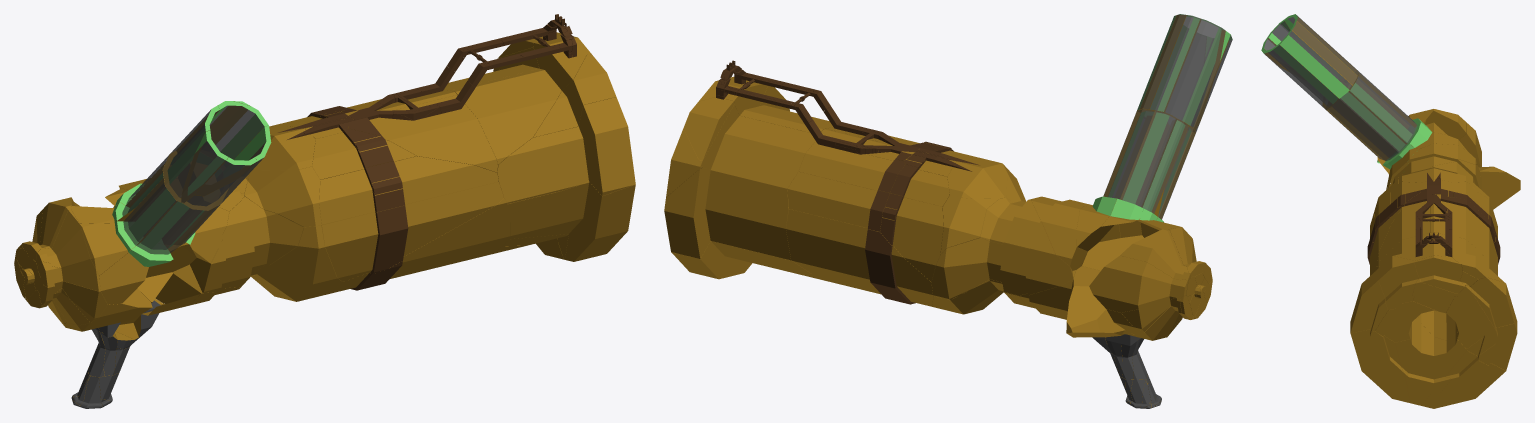
The model's file is BlasterCrumble.fbx.
The picture shows the model from 3 angles, left to right: view 1: azimuth 30°, elevation 25°; view 2: azimuth 150°, elevation 25°; view 3: azimuth 270°, elevation 25°; orthographic projection. The views are drawn at different scales.
Visible parts, largest first — view 1: Gun_cell.090, Gun_cell.037, Gun_cell.058, Gun_cell.013, Gun_cell.066, Gun_cell.032, Gun_cell.106, Gun_cell.040, Gun_cell.002, Gun_cell.009, Gun_cell.072, Gun_cell.065 (+24 smaller); view 2: Gun_cell.067, Gun_cell.051, Gun_cell.044, Gun_cell.083, Gun_cell.068, Gun_cell.028, Gun_cell.071, Gun_cell.042, Gun_cell.095, Gun_cell.103, Gun_cell.045, Gun_cell.033 (+23 smaller); view 3: Gun_cell.023, Gun_cell.033, Gun_cell.066, Gun_cell.035, Gun_cell.100, Gun_cell.091, Gun_cell.024, Gun_cell.088, Gun_cell.090, Gun_cell.001, Gun_cell.076, Gun_cell.106 (+26 smaller).
Part boxes in pixels (x1,y1,x2,y2): Gun_cell.090: (497, 97, 635, 203); Gun_cell.037: (322, 182, 503, 281); Gun_cell.058: (451, 38, 586, 165); Gun_cell.013: (319, 156, 498, 224); Gun_cell.066: (509, 181, 635, 261); Gun_cell.032: (190, 196, 303, 292); Gun_cell.106: (348, 95, 497, 172); Gun_cell.040: (325, 198, 510, 294); Gun_cell.002: (251, 225, 342, 301); Gun_cell.009: (80, 178, 177, 278); Gun_cell.072: (244, 166, 321, 226); Gun_cell.065: (312, 128, 416, 179); Gun_cell.067: (664, 168, 790, 260); Gun_cell.051: (786, 209, 933, 305); Gun_cell.044: (931, 238, 1073, 300); Gun_cell.083: (699, 104, 815, 188); Gun_cell.068: (787, 171, 889, 231); Gun_cell.028: (1089, 255, 1188, 312); Gun_cell.071: (1164, 18, 1225, 132); Gun_cell.042: (880, 193, 943, 281); Gun_cell.095: (798, 142, 905, 192); Gun_cell.103: (1110, 110, 1176, 219); Gun_cell.045: (980, 197, 1055, 254); Gun_cell.033: (671, 241, 818, 279); Gun_cell.023: (1395, 317, 1466, 405); Gun_cell.033: (1418, 311, 1505, 408); Gun_cell.066: (1350, 329, 1410, 403); Gun_cell.035: (1328, 91, 1413, 169); Gun_cell.100: (1348, 73, 1431, 147); Gun_cell.091: (1279, 15, 1358, 98); Gun_cell.024: (1446, 285, 1497, 354); Gun_cell.088: (1378, 256, 1418, 309); Gun_cell.090: (1350, 266, 1387, 333); Gun_cell.001: (1263, 43, 1338, 109); Gun_cell.076: (1471, 277, 1514, 329); Gun_cell.106: (1376, 192, 1430, 269).
Bounding box in the file's own units: 737 × 448 × 405.
